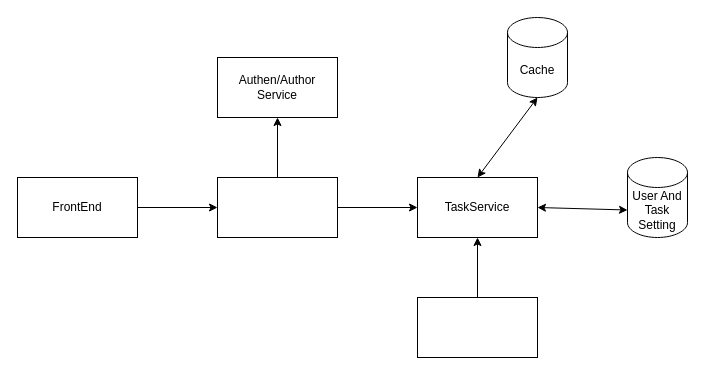
The diagram is 705 pixels wide and 375 high, and some of its shapes have lost their labels. Each missing label, with the centre of its shape:
ApiGateway: the point at 277,207
Job Service: the point at 477,327
